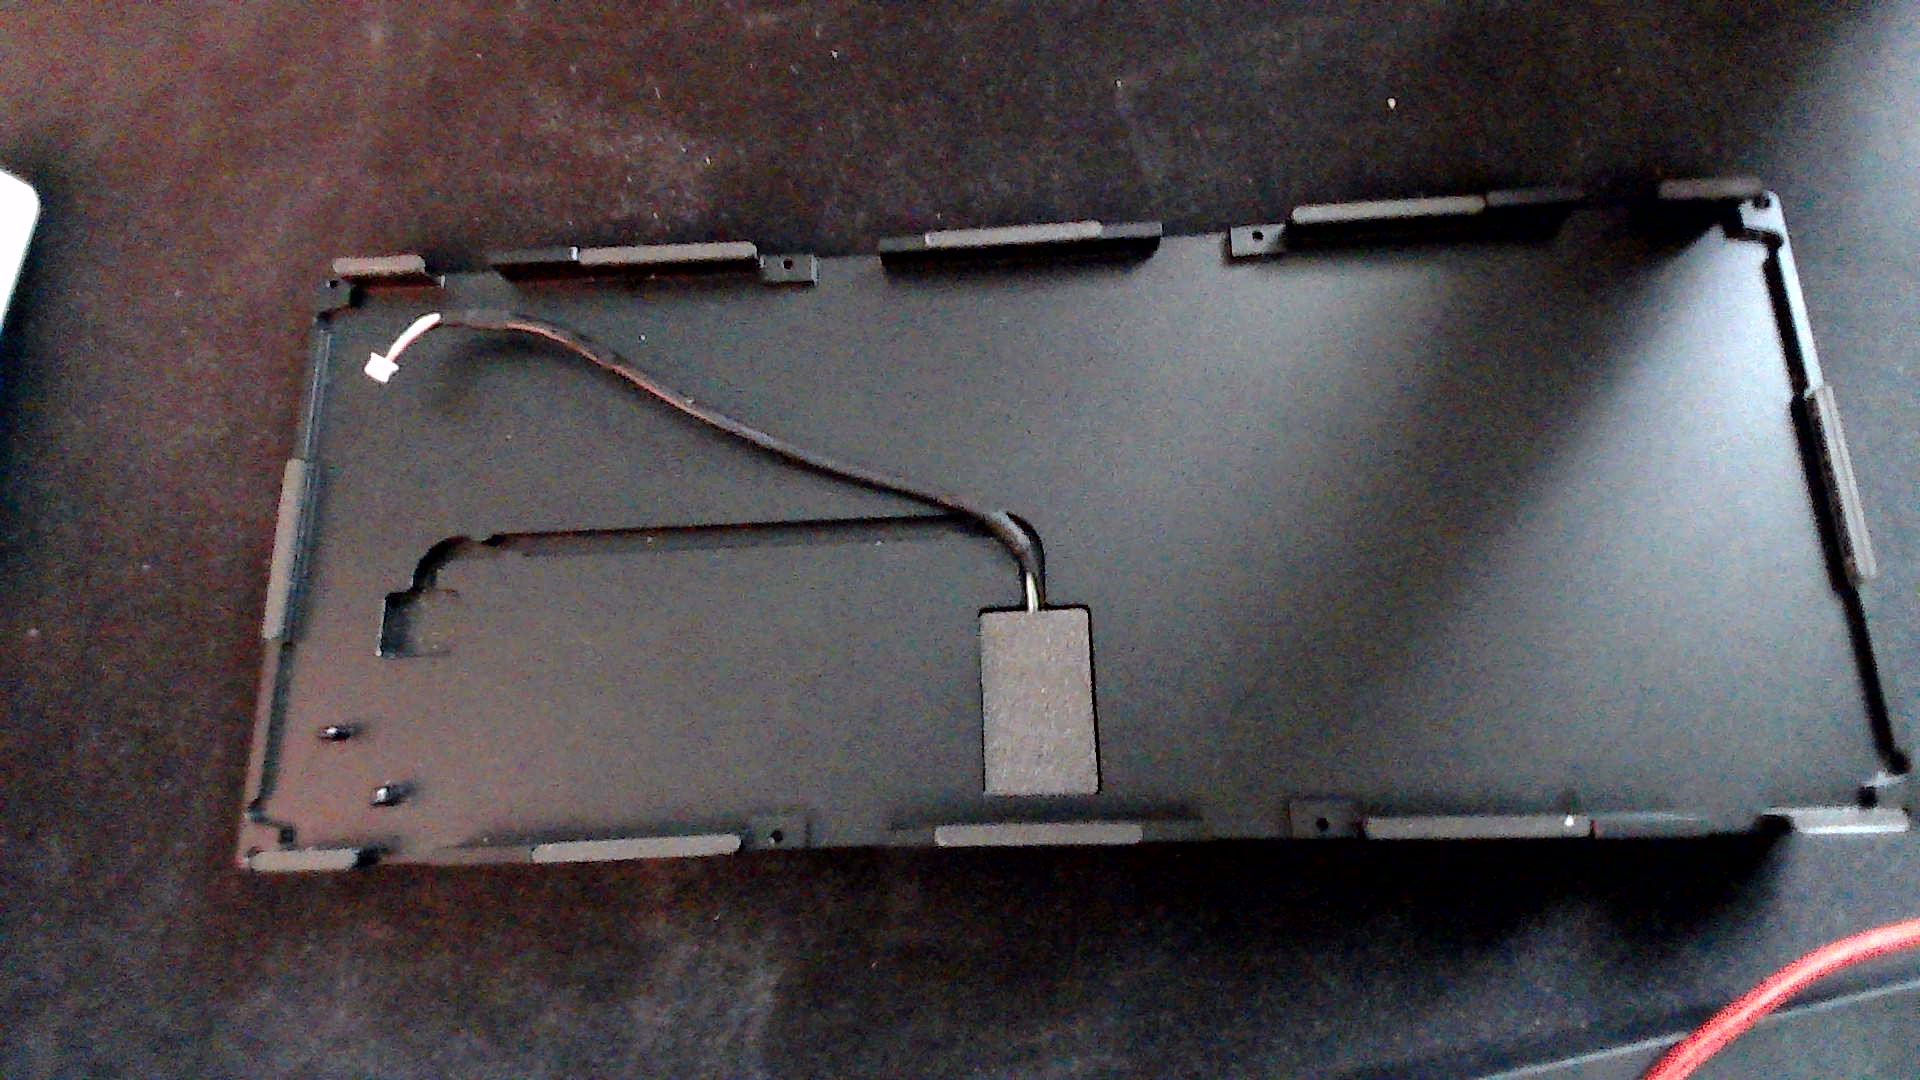case: (211, 144, 1920, 884)
